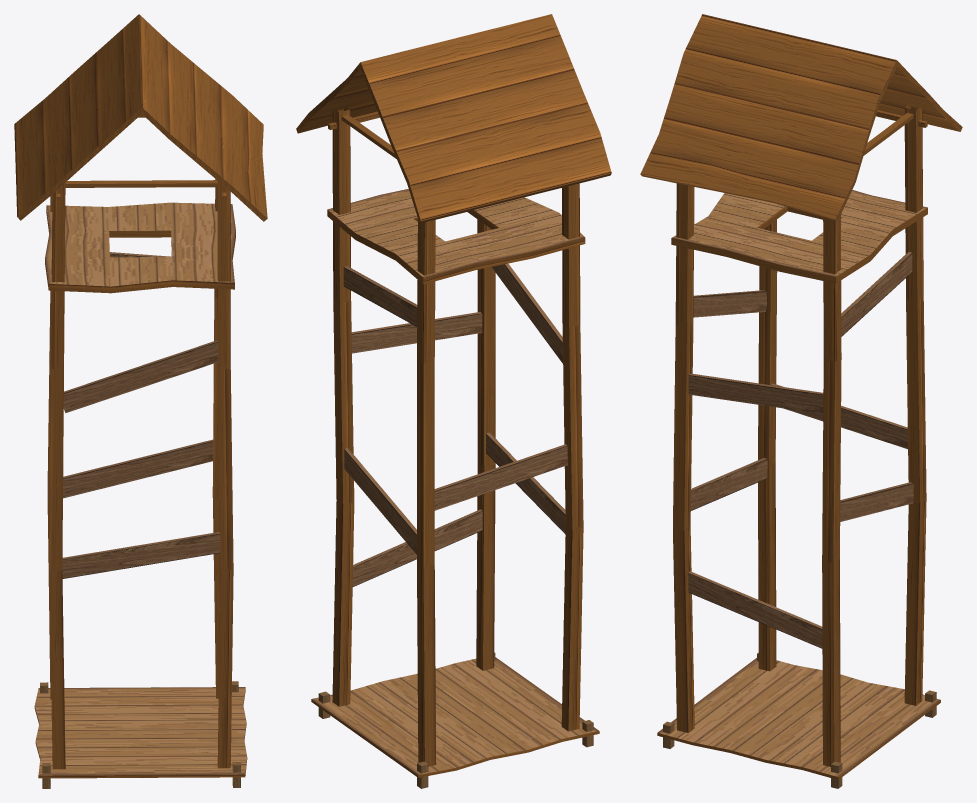
3 views of the same model, side by side, from view 1: azimuth 30°, elevation 25°; view 2: azimuth 150°, elevation 25°; view 3: azimuth 270°, elevation 25° (orthographic).
Parts seen in each view (by area): view 1: defaultMaterial.041; view 2: defaultMaterial.041; view 3: defaultMaterial.041.
Boxes of the visible parts, x1,y1,x2,y2 form: defaultMaterial.041: (14,14,267,788); defaultMaterial.041: (296,14,611,788); defaultMaterial.041: (640,14,962,788).
Size of the model in its own units: 408 by 956 by 403.
1 material, 1 textured.
